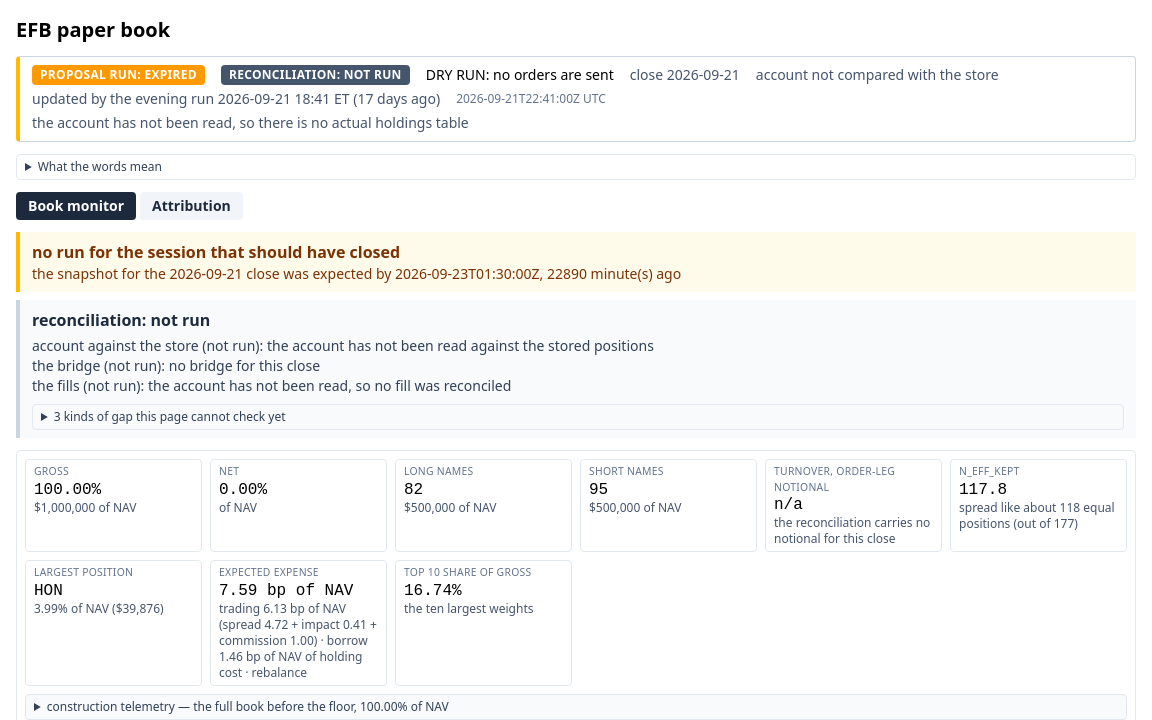
the attribution section › compares the realized cost against the trading half, with borrow named beside it
This screenshot has width=1152, height=720.
Click the tab "Attribution" at (191, 206), box [140, 192, 243, 220]
(page scrolled)
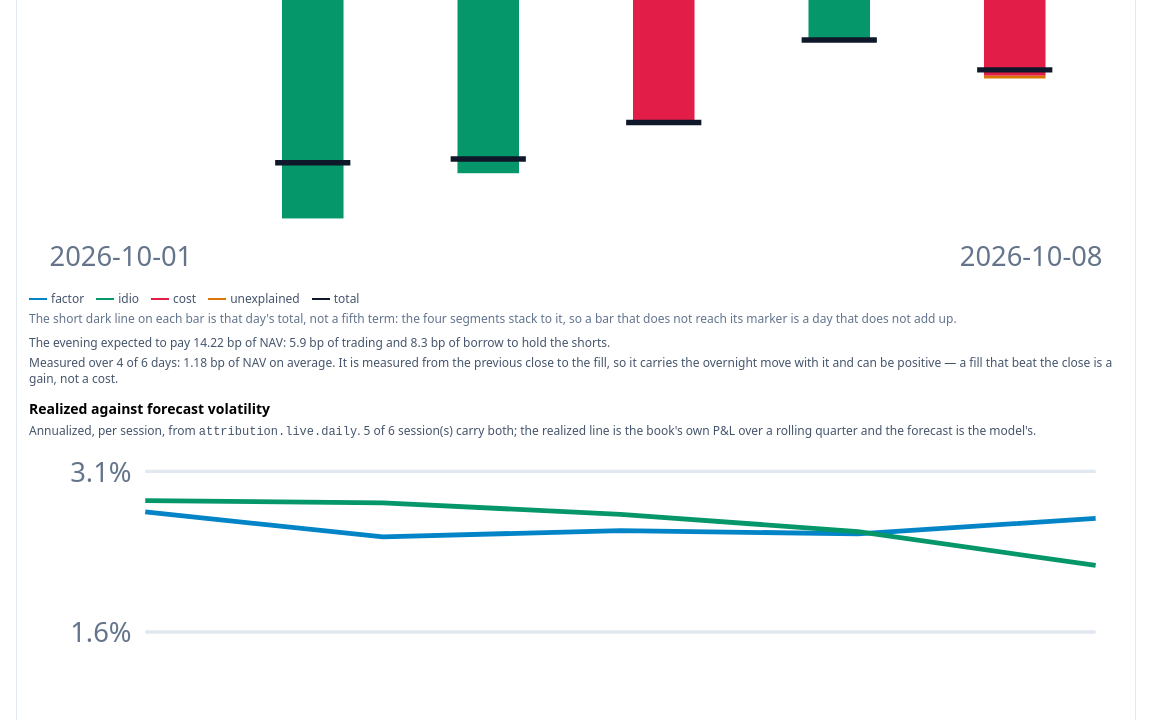
Now the element that starts with "The evening expected to pay" shows "14.22", box [193, 334, 283, 351]
Now the element that starts with "The evening expected to pay" shows "bp of NAV", box [193, 334, 283, 351]
Now the element that starts with "The evening expected to pay" shows "shorts", box [504, 334, 607, 351]
